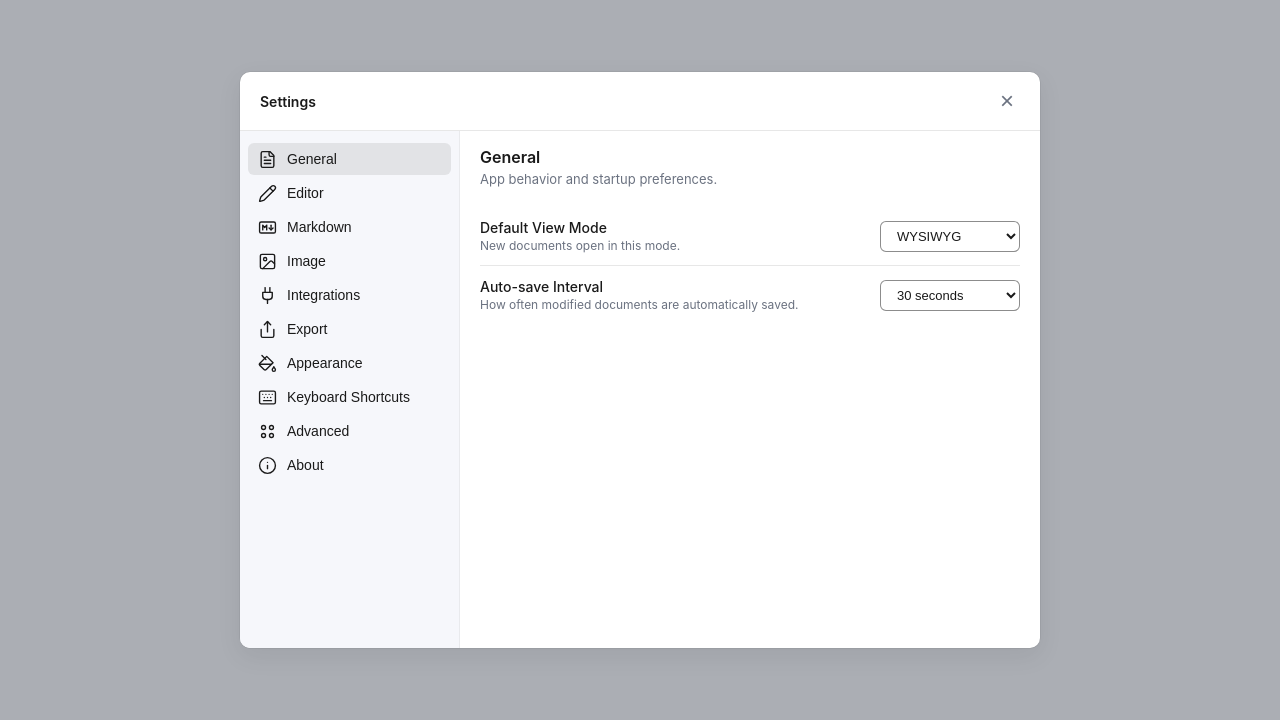
N5 the note is never Changed elsewhere from the click until the post-write refresh settles › N5 row B success, disk disagrees
The width and height of the screenshot is (1280, 720).
Click the button "Integrations" at (350,295), box x1=248 y1=279 x2=451 y2=311
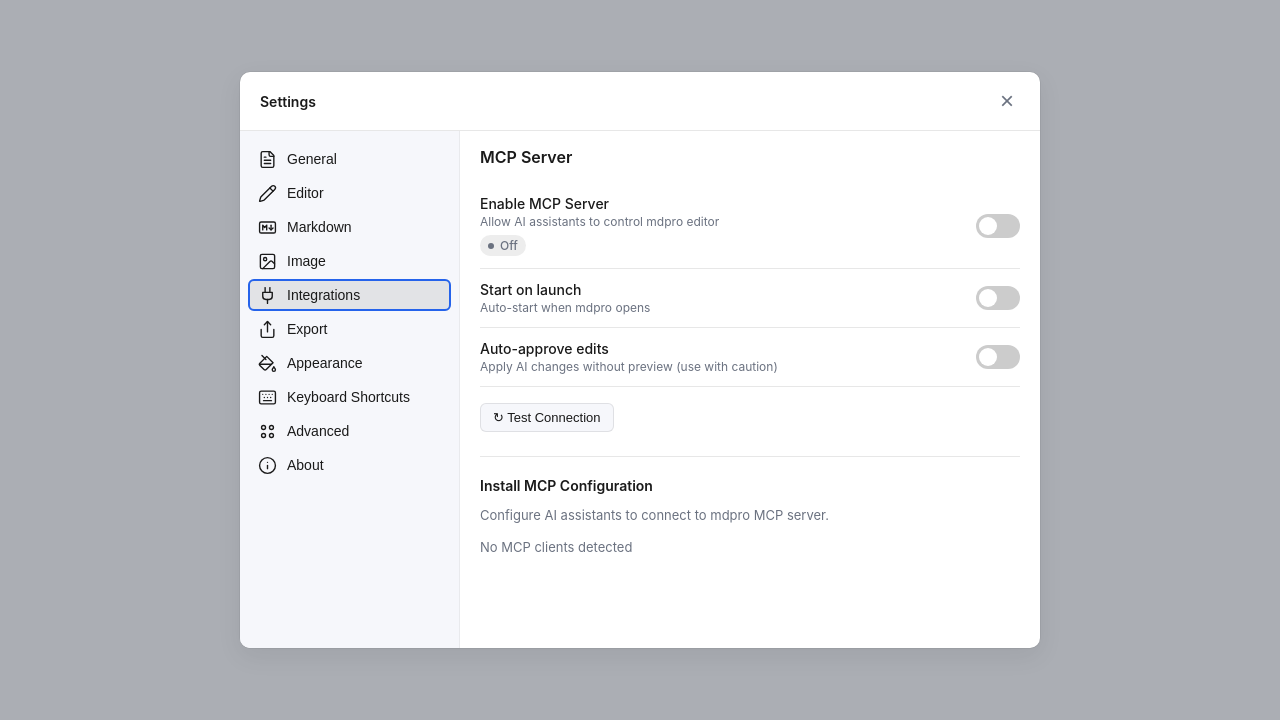
Expected: the switch labelled "Enable MCP Server" is enabled
Expected: the message "Off" is shown, x1=480 y1=235 x2=526 y2=256
Click the switch labelled "Enable MCP Server" at (998,226), box x1=976 y1=214 x2=1020 y2=238
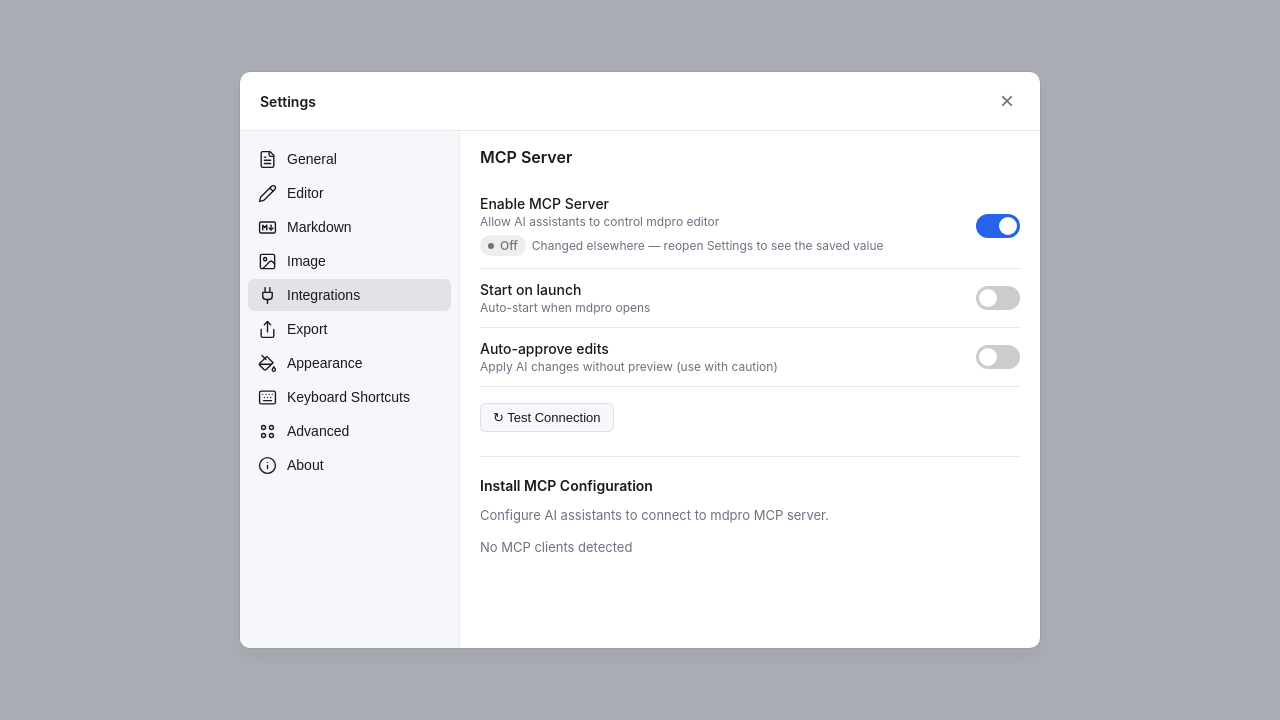
Expected: the text "Changed elsewhere — reopen Settings to see the saved value" is shown, x1=532 y1=238 x2=884 y2=253
